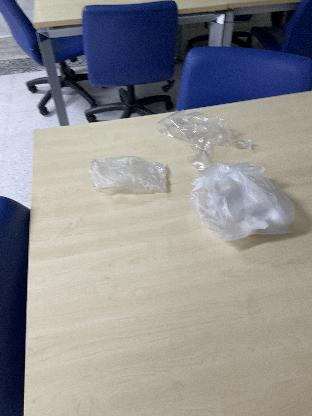Others: (174, 154, 306, 250), (152, 100, 262, 174), (85, 155, 178, 209)
